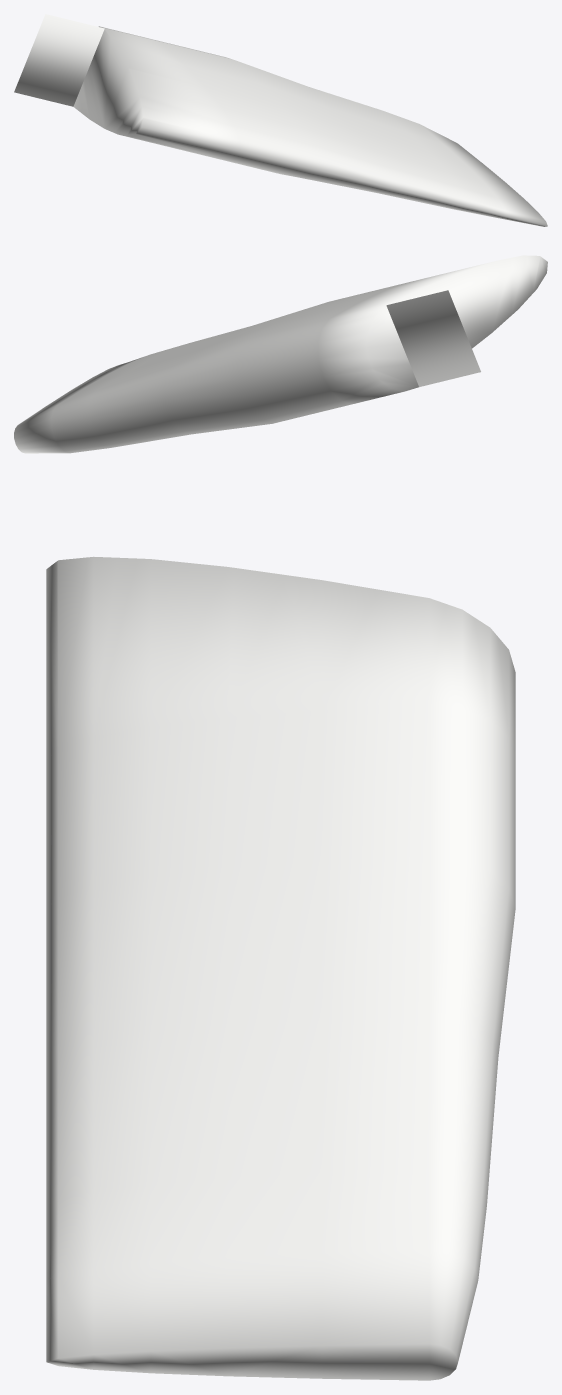
File: zlt_nt_rudder_stbd.glb
3 views of the same model, one above another, from view 1: azimuth 30°, elevation 25°; view 2: azimuth 150°, elevation 25°; view 3: azimuth 270°, elevation 25° (orthographic). The views are drawn at different scales.
Parts seen in each view (by area): view 1: rudder_stbd; view 2: rudder_stbd; view 3: rudder_stbd.
Boxes of the visible parts, left/top/right/bottom form: rudder_stbd: left=14, top=14, right=547, bottom=226; rudder_stbd: left=14, top=255, right=547, bottom=453; rudder_stbd: left=46, top=556, right=515, bottom=1380.
Size of the model in its own units: 5.28 by 2.88 by 2.42.
1 material, 1 textured.
